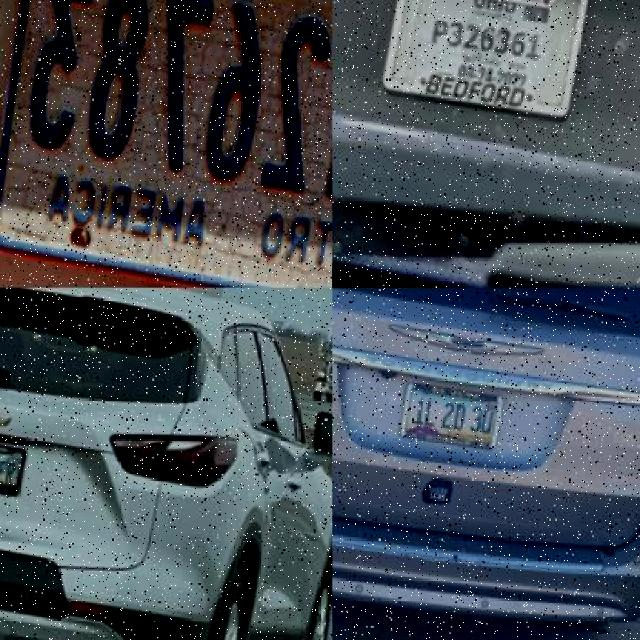licenseplate: (5, 0, 332, 237), (384, 0, 591, 118), (403, 378, 509, 446), (0, 440, 31, 494)
